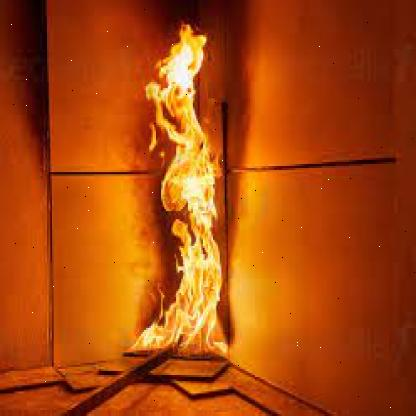fire: (122, 22, 237, 372)
